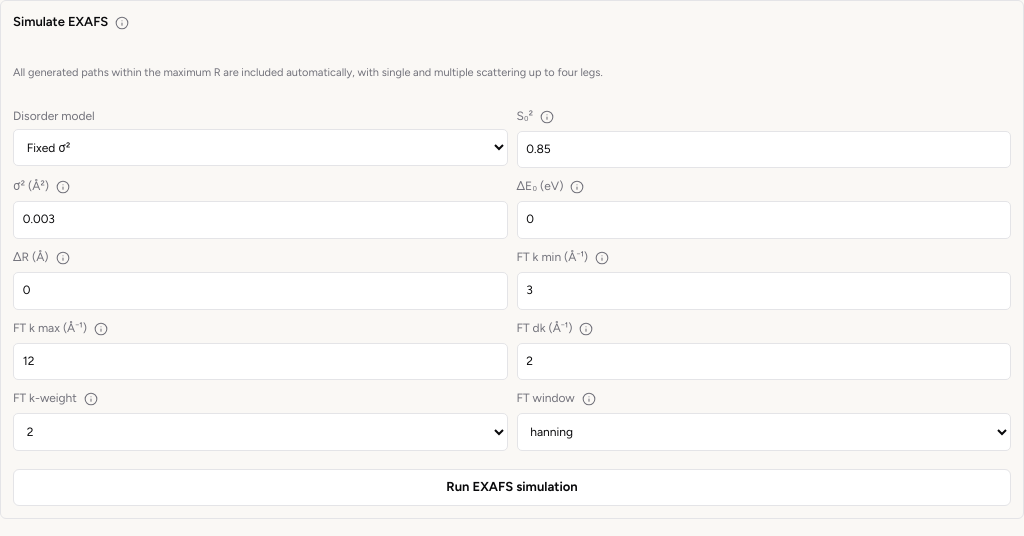
Scenario: CIF simulation controls › shows instructions for each input only when enabled, without requesting a simulation
Click the button named "About Simulation σ² (Å²)" at (63, 187), box left=56, top=180, right=70, bottom=194
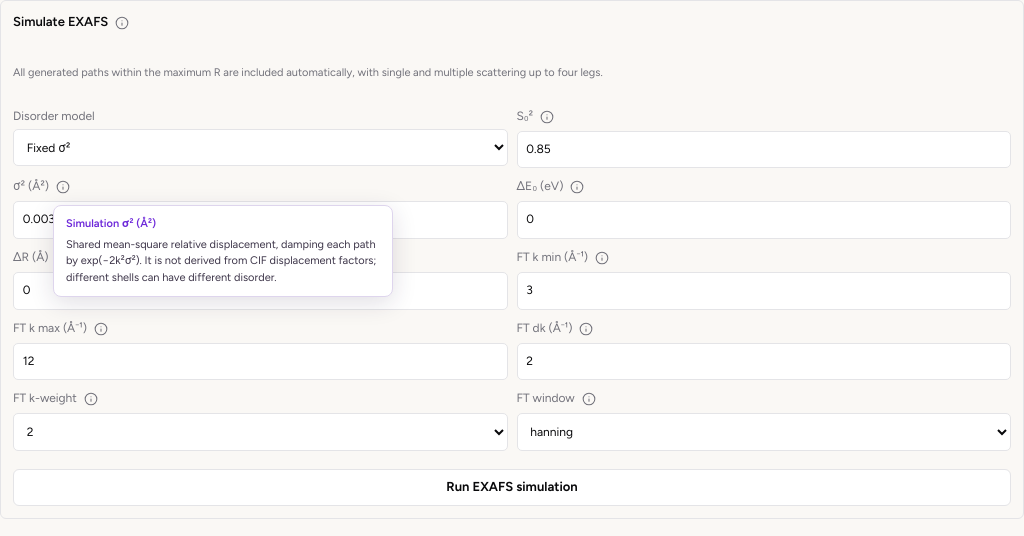
Expected: the number field named "Simulation σ² (Å²)" holds "0.003", left=13, top=201, right=508, bottom=239
Expected: the tooltip shows "not derived from CIF displacement factors", left=66, top=238, right=376, bottom=284
